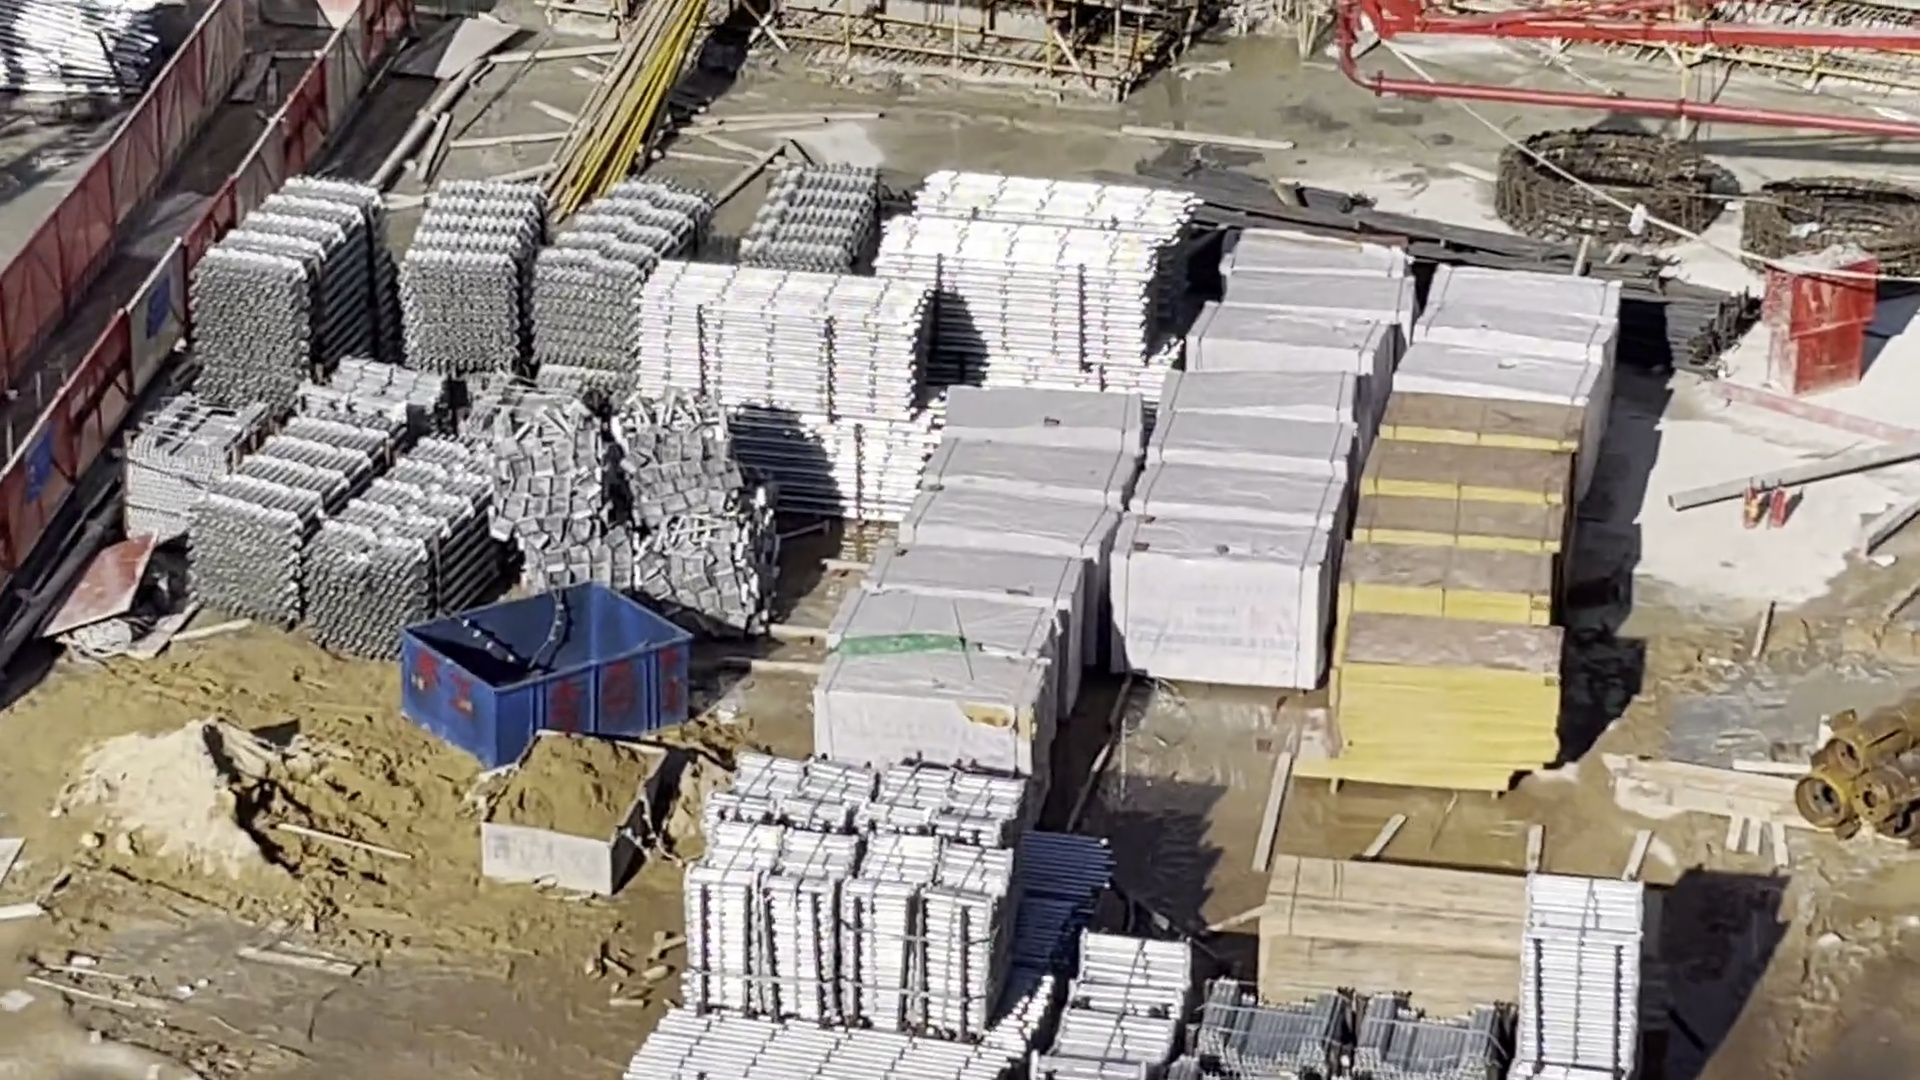board: (1336, 397, 1567, 789), (1270, 864, 1509, 1001)
fence: (1, 8, 393, 550)
hopper: (398, 582, 688, 773), (483, 735, 663, 895)
rebar: (1279, 196, 1754, 372)
scaffold: (702, 760, 1029, 1027), (636, 262, 919, 516), (193, 425, 505, 653), (885, 177, 1185, 381), (411, 181, 696, 386), (183, 181, 388, 397), (1178, 984, 1489, 1080), (632, 1010, 1023, 1080), (1516, 885, 1640, 1080), (1027, 930, 1184, 1080), (752, 165, 874, 276), (1, 4, 154, 88)
slogan: (20, 430, 50, 501)
